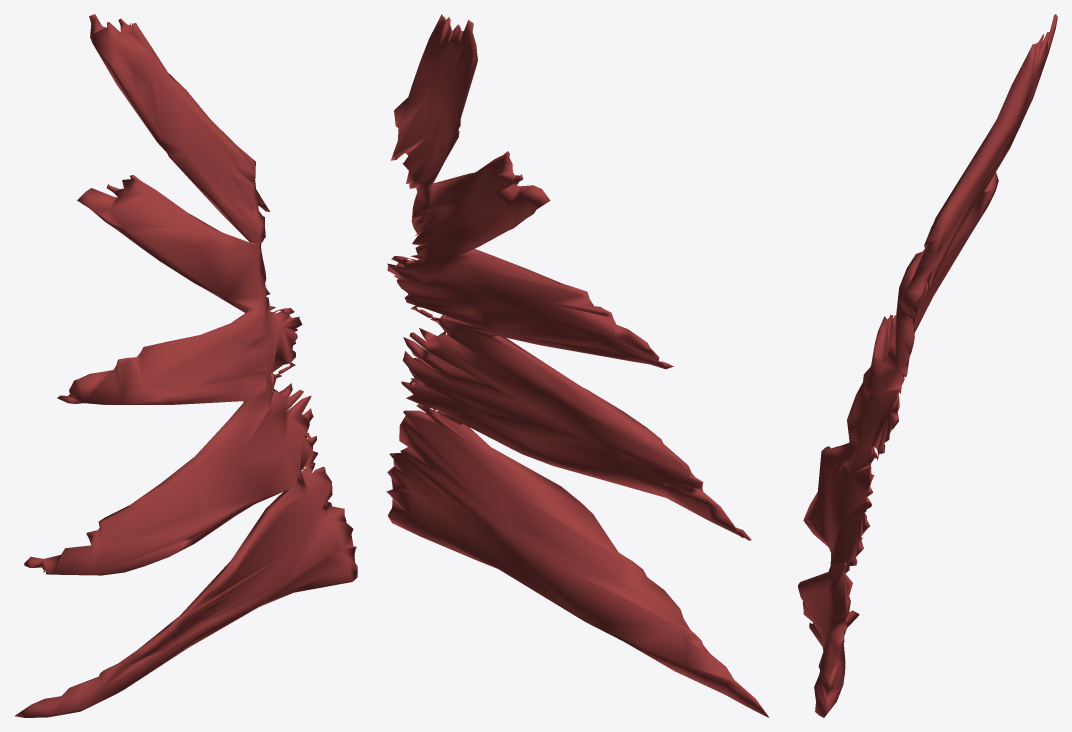
The model's file is transversus-thoracis-muscle-r.glb.
3 views of the same model, side by side, from view 1: azimuth 30°, elevation 25°; view 2: azimuth 150°, elevation 25°; view 3: azimuth 270°, elevation 25° (orthographic). The views are drawn at different scales.
Parts seen in each view (by area): view 1: Transversus thoracis muscle.r; view 2: Transversus thoracis muscle.r; view 3: Transversus thoracis muscle.r.
Boxes of the visible parts, <box> form: Transversus thoracis muscle.r: <box>15,14,357,717</box>; Transversus thoracis muscle.r: <box>386,14,769,717</box>; Transversus thoracis muscle.r: <box>798,14,1057,717</box>.
Bounding box in the file's own units: 0.0855 × 0.149 × 0.0505.
